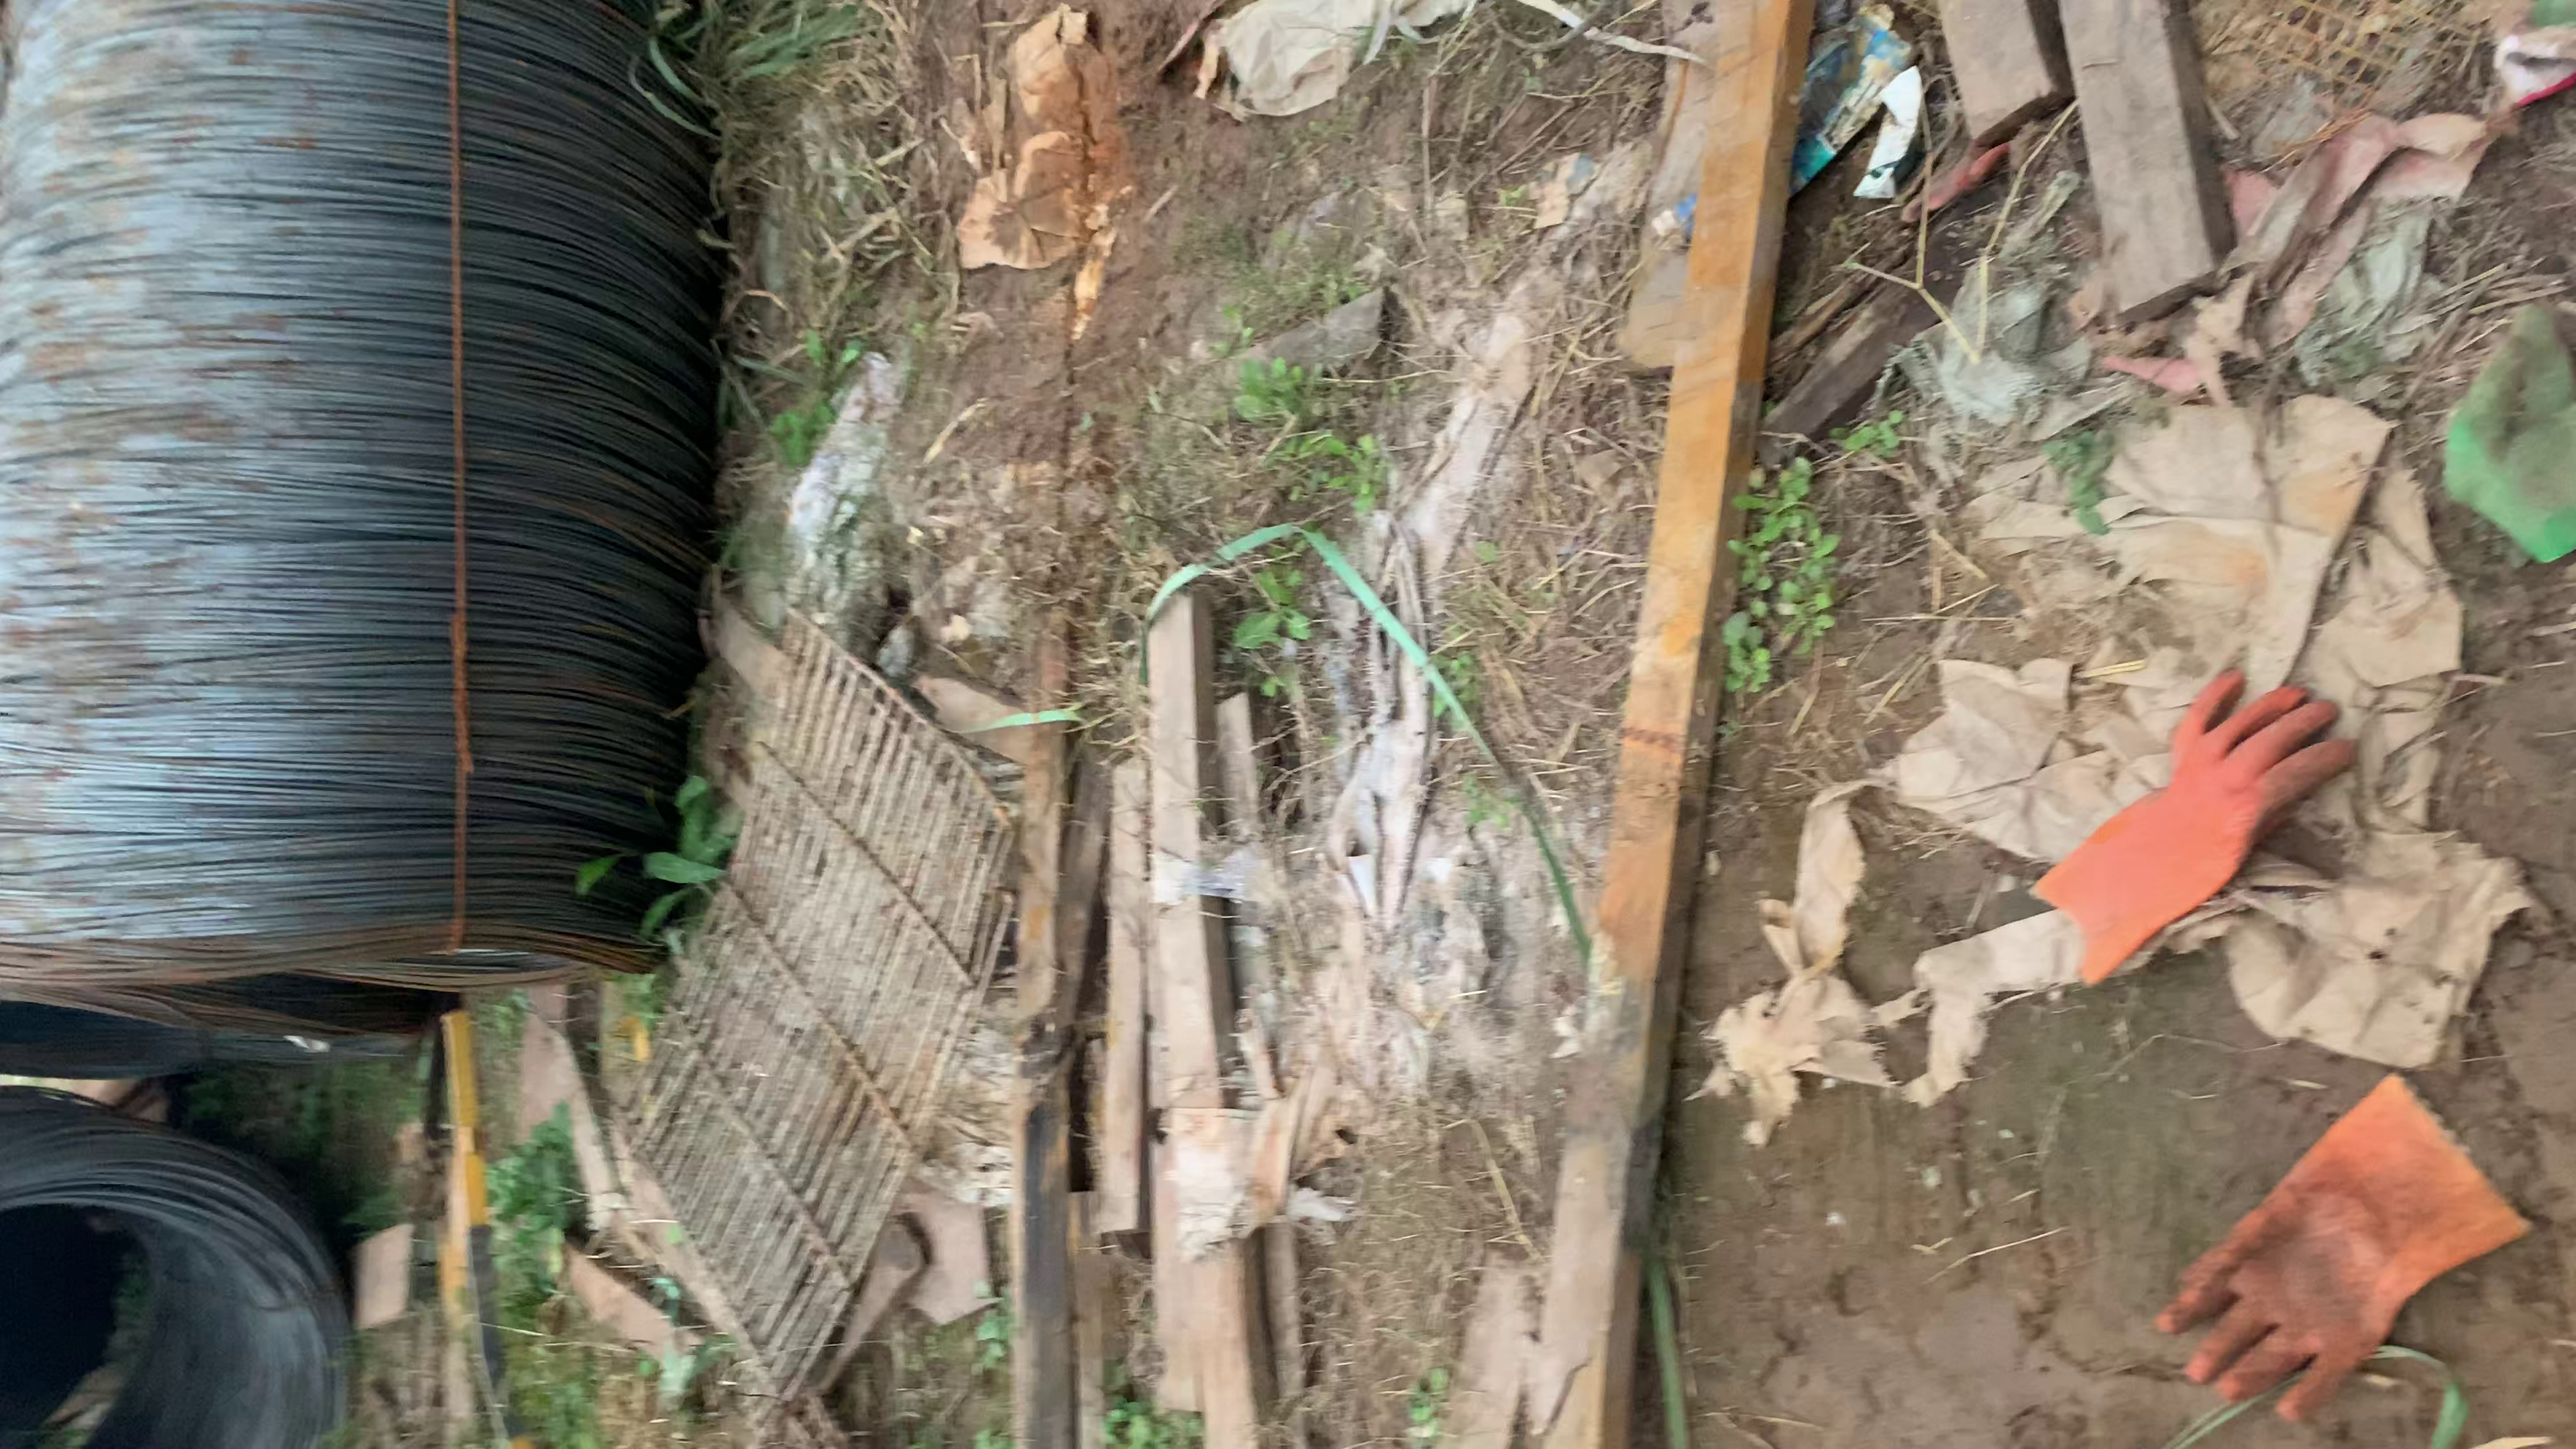coil: (0, 1162, 402, 1435), (0, 916, 692, 1047)
